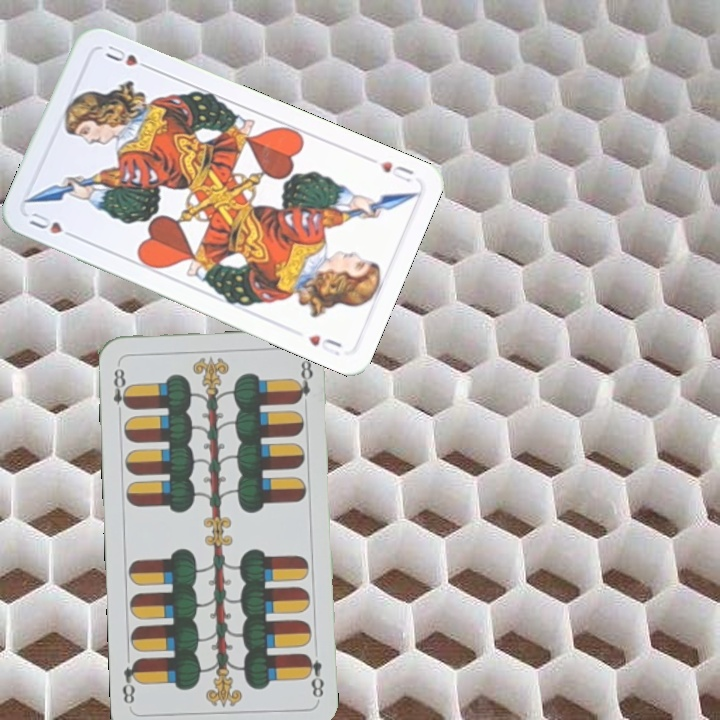E8: (301, 649, 326, 702), (109, 364, 133, 419)
HU: (24, 208, 80, 242), (375, 157, 416, 185)
